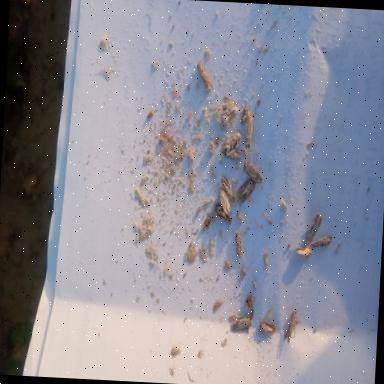pbw: (240, 161, 268, 184), (235, 178, 255, 206), (195, 60, 214, 89), (211, 198, 232, 224), (305, 212, 322, 242), (219, 174, 236, 201), (220, 130, 242, 150), (284, 310, 296, 344), (230, 314, 252, 332), (234, 230, 246, 261), (218, 188, 231, 214), (244, 112, 253, 148), (309, 234, 332, 248), (258, 320, 280, 334), (218, 147, 240, 160), (296, 244, 312, 256)
